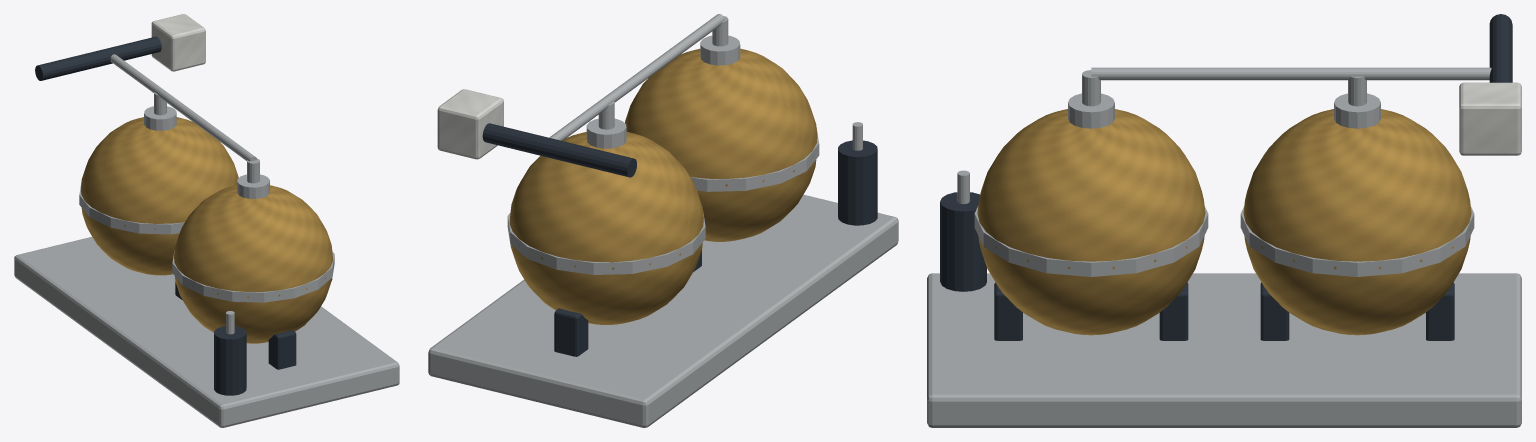
Rendered from fuel_module_medium.glb.
3 views of the same model, side by side, from view 1: azimuth 30°, elevation 25°; view 2: azimuth 150°, elevation 25°; view 3: azimuth 270°, elevation 25° (orthographic). The views are drawn at different scales.
Parts seen in each view (by area): view 1: Tank_MountingPlate.001, Propellant_PressureVessel.001, Propellant_PressureVessel.002, Valve_Controller.001, Pressurant_Bottle.001, Feed_Manifold.001, Tank_EquatorialBand.001, Branch_Line.001, Tank_EquatorialBand.002, Tank_Cradle.002, Tank_EndFitting.003, Tank_EndFitting.005; view 2: Tank_MountingPlate.001, Propellant_PressureVessel.002, Propellant_PressureVessel.001, Valve_Controller.001, Pressurant_Bottle.001, Feed_Manifold.001, Tank_EquatorialBand.002, Branch_Line.001, Tank_EquatorialBand.001, Tank_Cradle.005, Tank_EndFitting.003, Tank_EndFitting.005; view 3: Tank_MountingPlate.001, Propellant_PressureVessel.001, Propellant_PressureVessel.002, Branch_Line.001, Valve_Controller.001, Pressurant_Bottle.001, Tank_EquatorialBand.001, Tank_EquatorialBand.002, Feed_Manifold.001, Tank_EndFitting.003, Tank_EndFitting.005, Tank_Cradle.003 (+5 smaller).
Part boxes in pixels (<box>): Tank_MountingPlate.001: <box>14,237,399,427</box>; Propellant_PressureVessel.001: <box>174,185,332,343</box>; Propellant_PressureVessel.002: <box>81,117,238,275</box>; Valve_Controller.001: <box>151,14,205,71</box>; Pressurant_Bottle.001: <box>214,326,246,395</box>; Feed_Manifold.001: <box>35,36,161,80</box>; Tank_EquatorialBand.001: <box>172,250,334,302</box>; Branch_Line.001: <box>110,54,257,161</box>; Tank_EquatorialBand.002: <box>79,181,184,234</box>; Tank_Cradle.002: <box>268,330,296,369</box>; Tank_EndFitting.003: <box>237,174,269,198</box>; Tank_EndFitting.005: <box>144,106,176,130</box>; Tank_MountingPlate.001: <box>428,194,898,427</box>; Propellant_PressureVessel.002: <box>509,132,703,324</box>; Propellant_PressureVessel.001: <box>625,48,817,241</box>; Valve_Controller.001: <box>437,89,503,159</box>; Pressurant_Bottle.001: <box>838,140,877,225</box>; Feed_Manifold.001: <box>482,123,636,177</box>; Tank_EquatorialBand.002: <box>507,211,705,274</box>; Branch_Line.001: <box>549,14,724,140</box>; Tank_EquatorialBand.001: <box>690,128,819,191</box>; Tank_Cradle.005: <box>554,308,588,356</box>; Tank_EndFitting.003: <box>700,35,740,65</box>; Tank_EndFitting.005: <box>586,118,626,148</box>; Tank_MountingPlate.001: <box>927,273,1521,427</box>; Propellant_PressureVessel.001: <box>977,109,1205,335</box>; Propellant_PressureVessel.002: <box>1243,109,1471,335</box>; Branch_Line.001: <box>1091,67,1491,80</box>; Valve_Controller.001: <box>1459,82,1521,155</box>; Pressurant_Bottle.001: <box>940,192,986,291</box>; Tank_EquatorialBand.001: <box>974,206,1208,276</box>; Tank_EquatorialBand.002: <box>1240,206,1474,276</box>; Feed_Manifold.001: <box>1489,14,1512,82</box>; Tank_EndFitting.003: <box>1068,93,1114,128</box>; Tank_EndFitting.005: <box>1334,93,1380,128</box>; Tank_Cradle.003: <box>1159,282,1188,340</box>.
Size of the model in its own units: 0.57 by 0.675 by 1.14.
4 materials, 2 textured.
